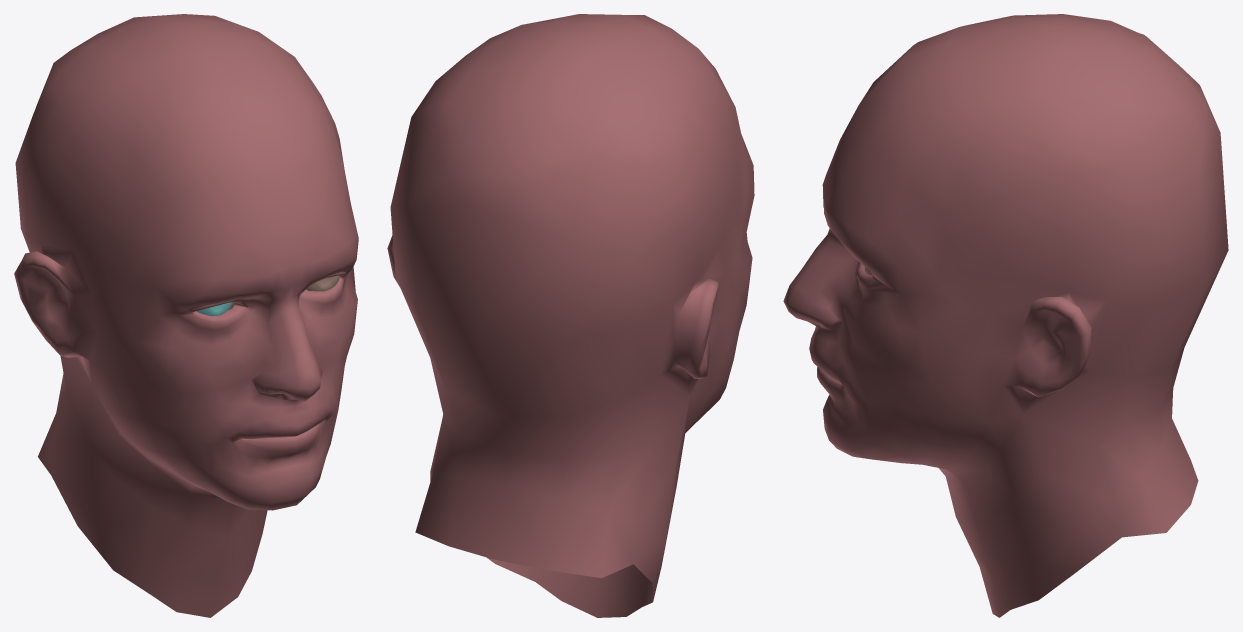
Rendered from head.obj.
3 views of the same model, side by side, from view 1: azimuth 30°, elevation 25°; view 2: azimuth 150°, elevation 25°; view 3: azimuth 270°, elevation 25° (orthographic). The views are drawn at different scales.
Visible parts, largest first — view 1: slav_reference; view 2: slav_reference; view 3: slav_reference.
Part boxes in pixels (<box>): slav_reference: <box>14,14,358,617</box>; slav_reference: <box>387,14,754,617</box>; slav_reference: <box>783,14,1228,617</box>.
Bounding box in the file's own units: 7.74 × 13.89 × 9.56.
